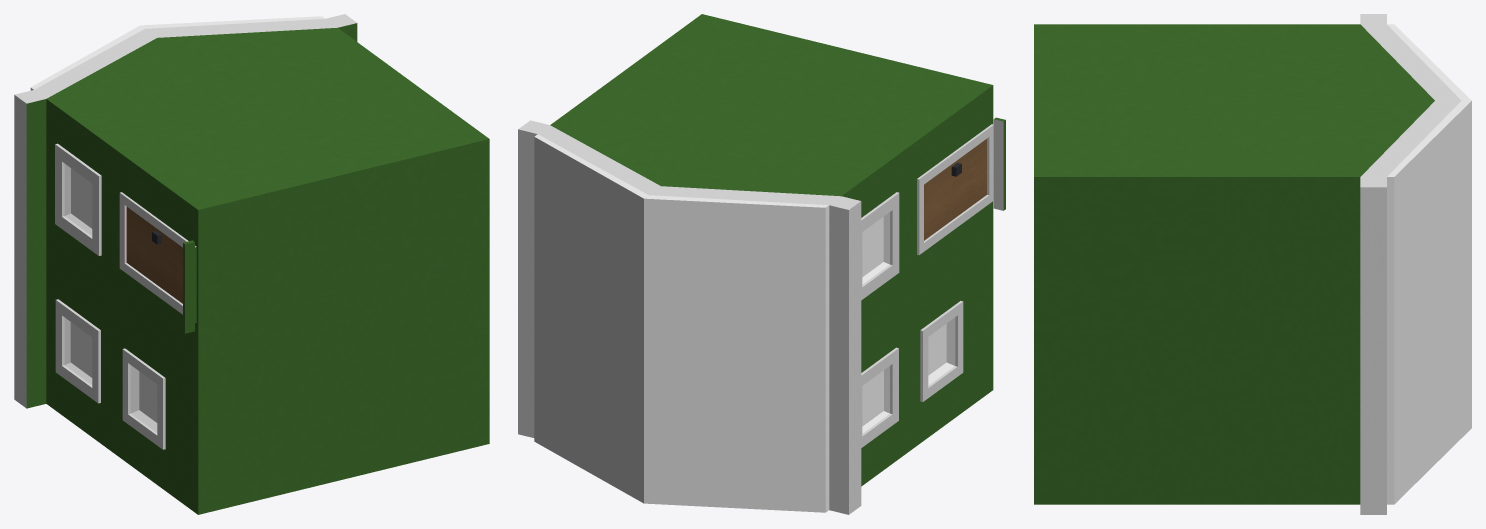
The model's file is venice_murano_15.fbx.
The picture shows the model from 3 angles, left to right: view 1: azimuth 30°, elevation 25°; view 2: azimuth 150°, elevation 25°; view 3: azimuth 270°, elevation 25°; orthographic projection. The views are drawn at different scales.
Visible parts, largest first — view 1: Cube.337; view 2: Cube.337; view 3: Cube.337.
Boxes of the visible parts, x1,y1,x2,y2 form: Cube.337: (14, 14, 489, 514); Cube.337: (518, 14, 1005, 514); Cube.337: (1034, 14, 1471, 514).
Size of the model in its own units: 897 by 790 by 956.
